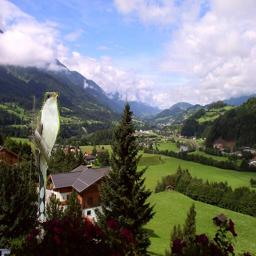Cuckoo: (35, 92, 60, 222)
